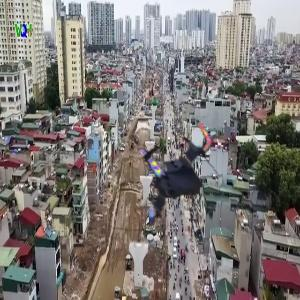drone: (122, 116, 230, 224)
